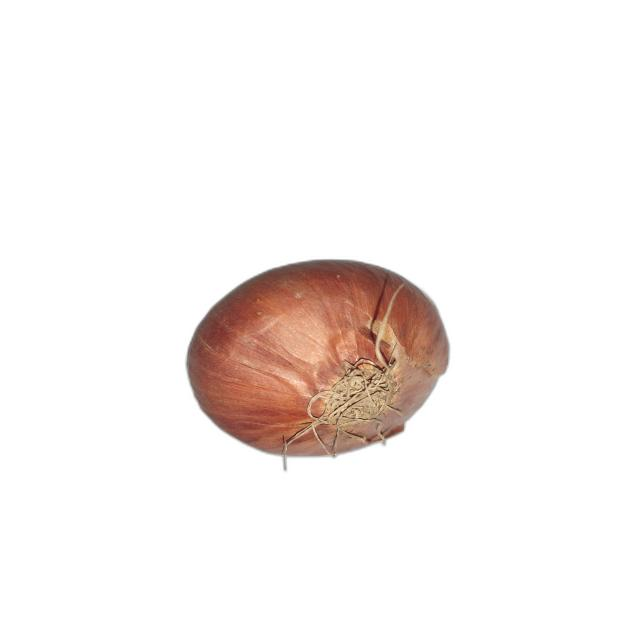onion: (187, 260, 452, 465)
